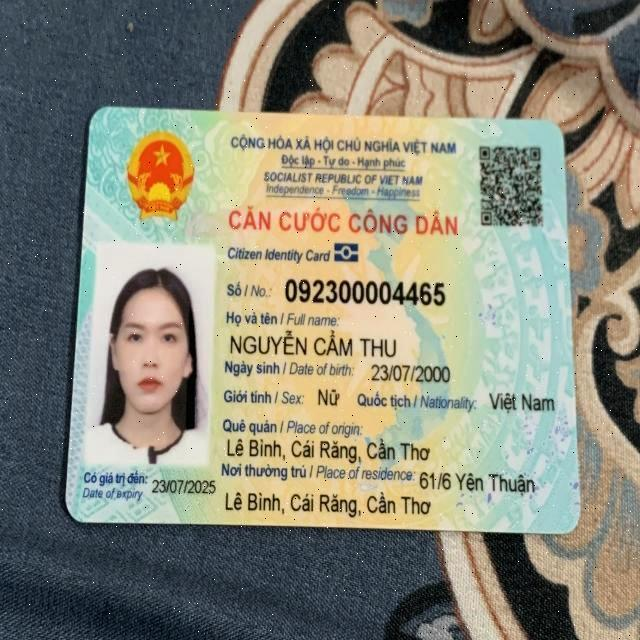current_place: (223, 488, 435, 516), (415, 466, 553, 498)
dob: (372, 361, 451, 388)
expire_date: (149, 473, 217, 497)
gender: (316, 386, 348, 408)
id: (281, 270, 448, 310)
name: (228, 329, 400, 360)
nationality: (485, 390, 557, 416)
origin_place: (222, 433, 430, 464)
